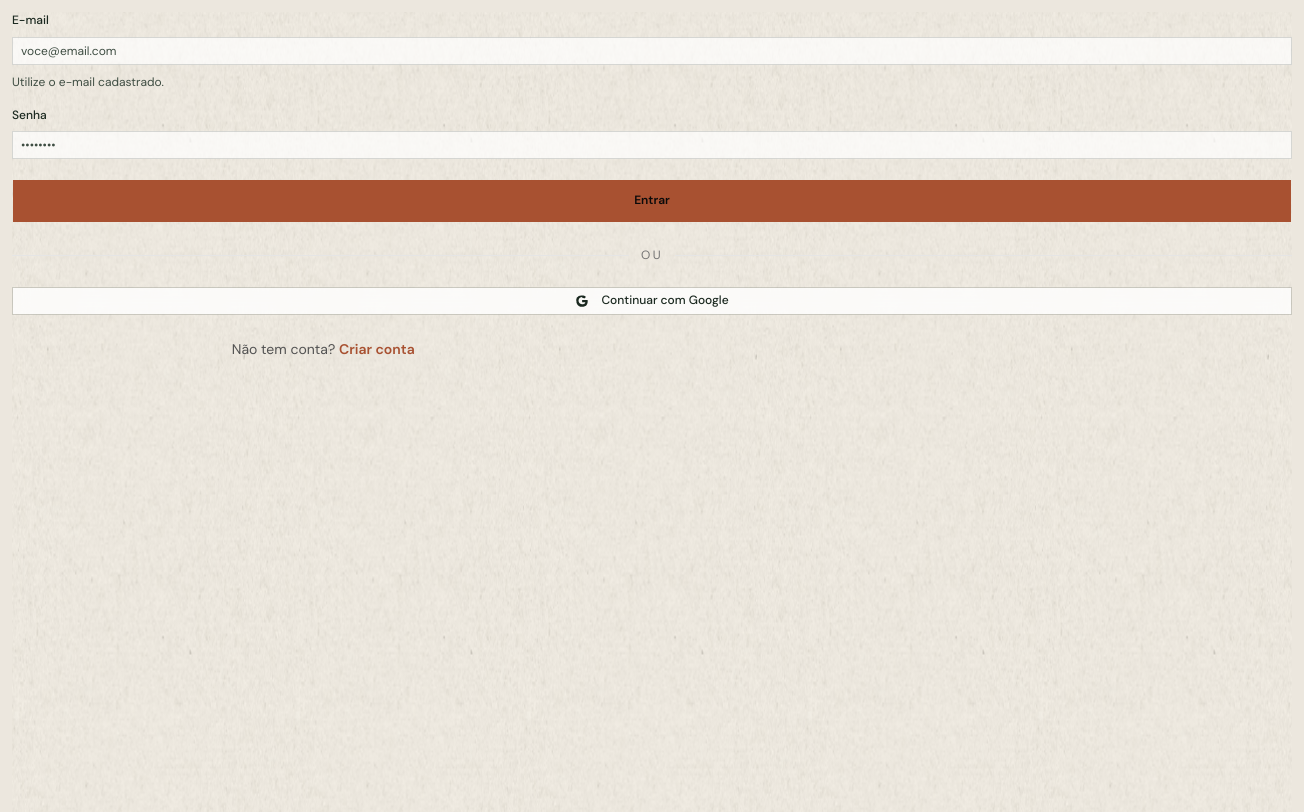
Test: SignInForm › exibe erro retornado pela API no login por email
Type "teste@email.com" into the field with placeholder "voce@email.com" at coordinates (652, 50), box [12,36,1292,64]
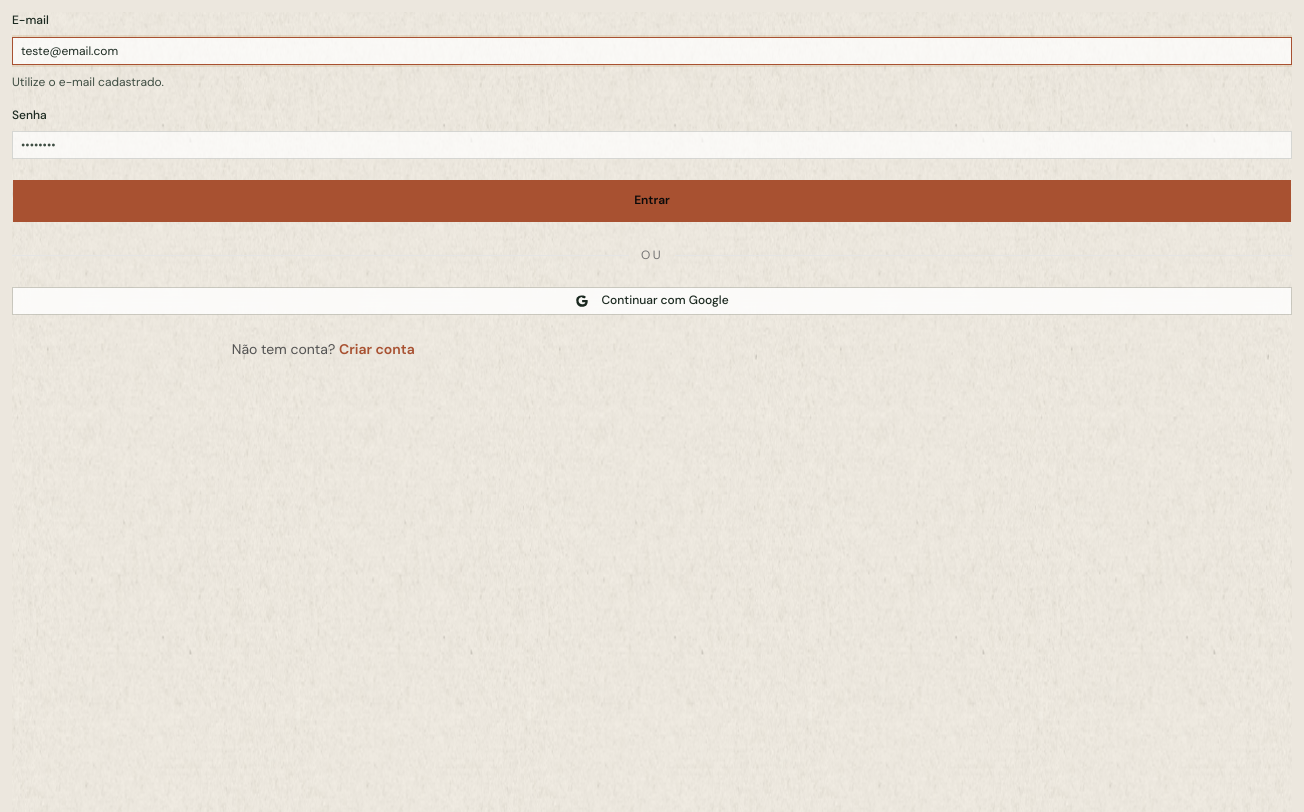
Type "12345678" into the password field with placeholder "••••••••" at coordinates (652, 145), box [12,131,1292,159]
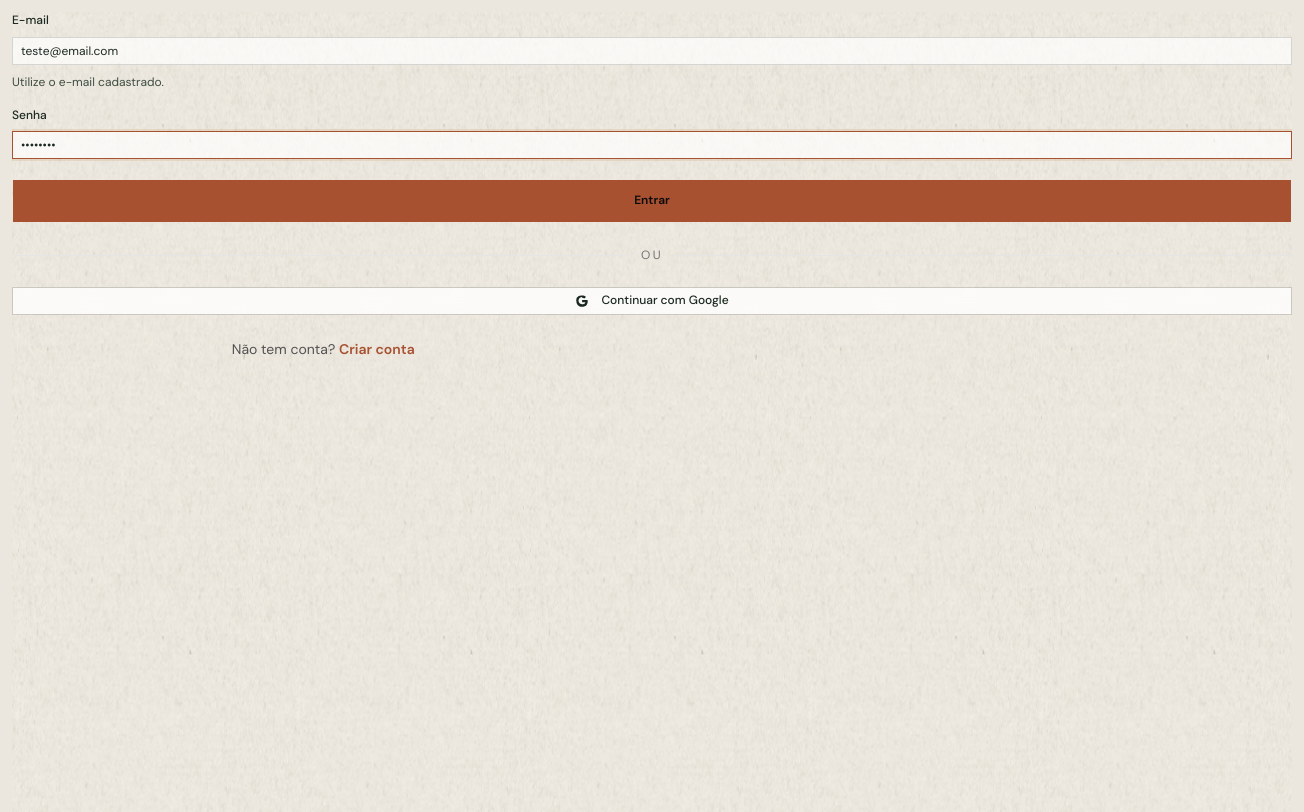
Click the button "Entrar" at coordinates (652, 201), box [12,179,1292,223]
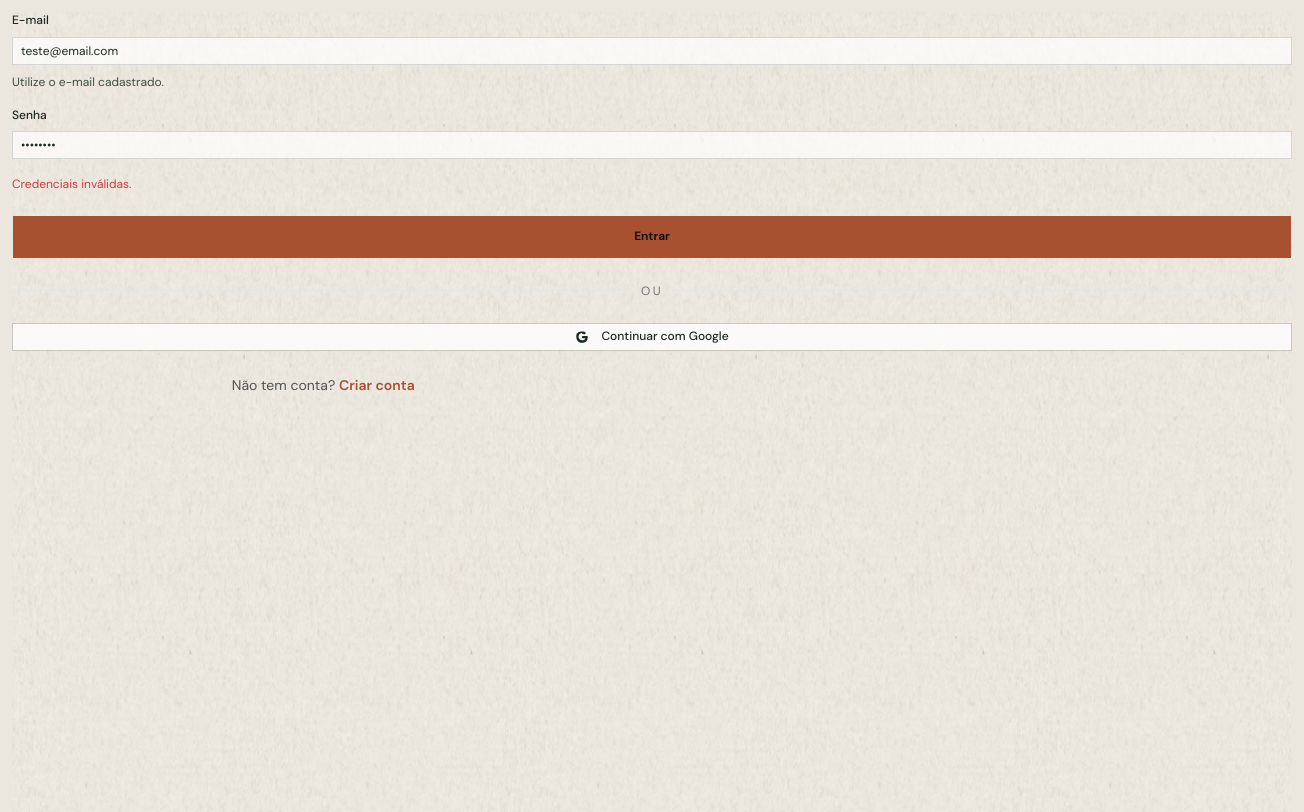
Expected: the text "Credenciais inválidas." is shown, [12,176,131,192]
